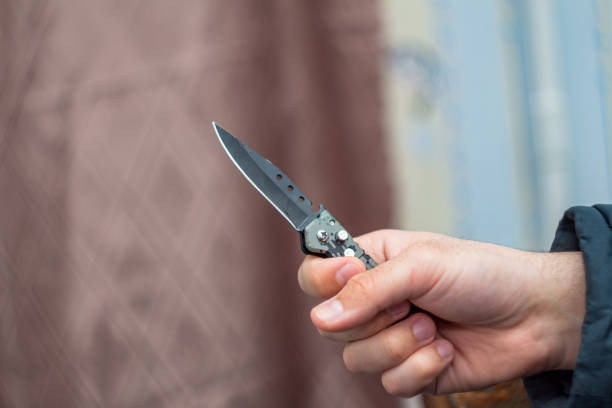knife: (211, 121, 377, 270)
